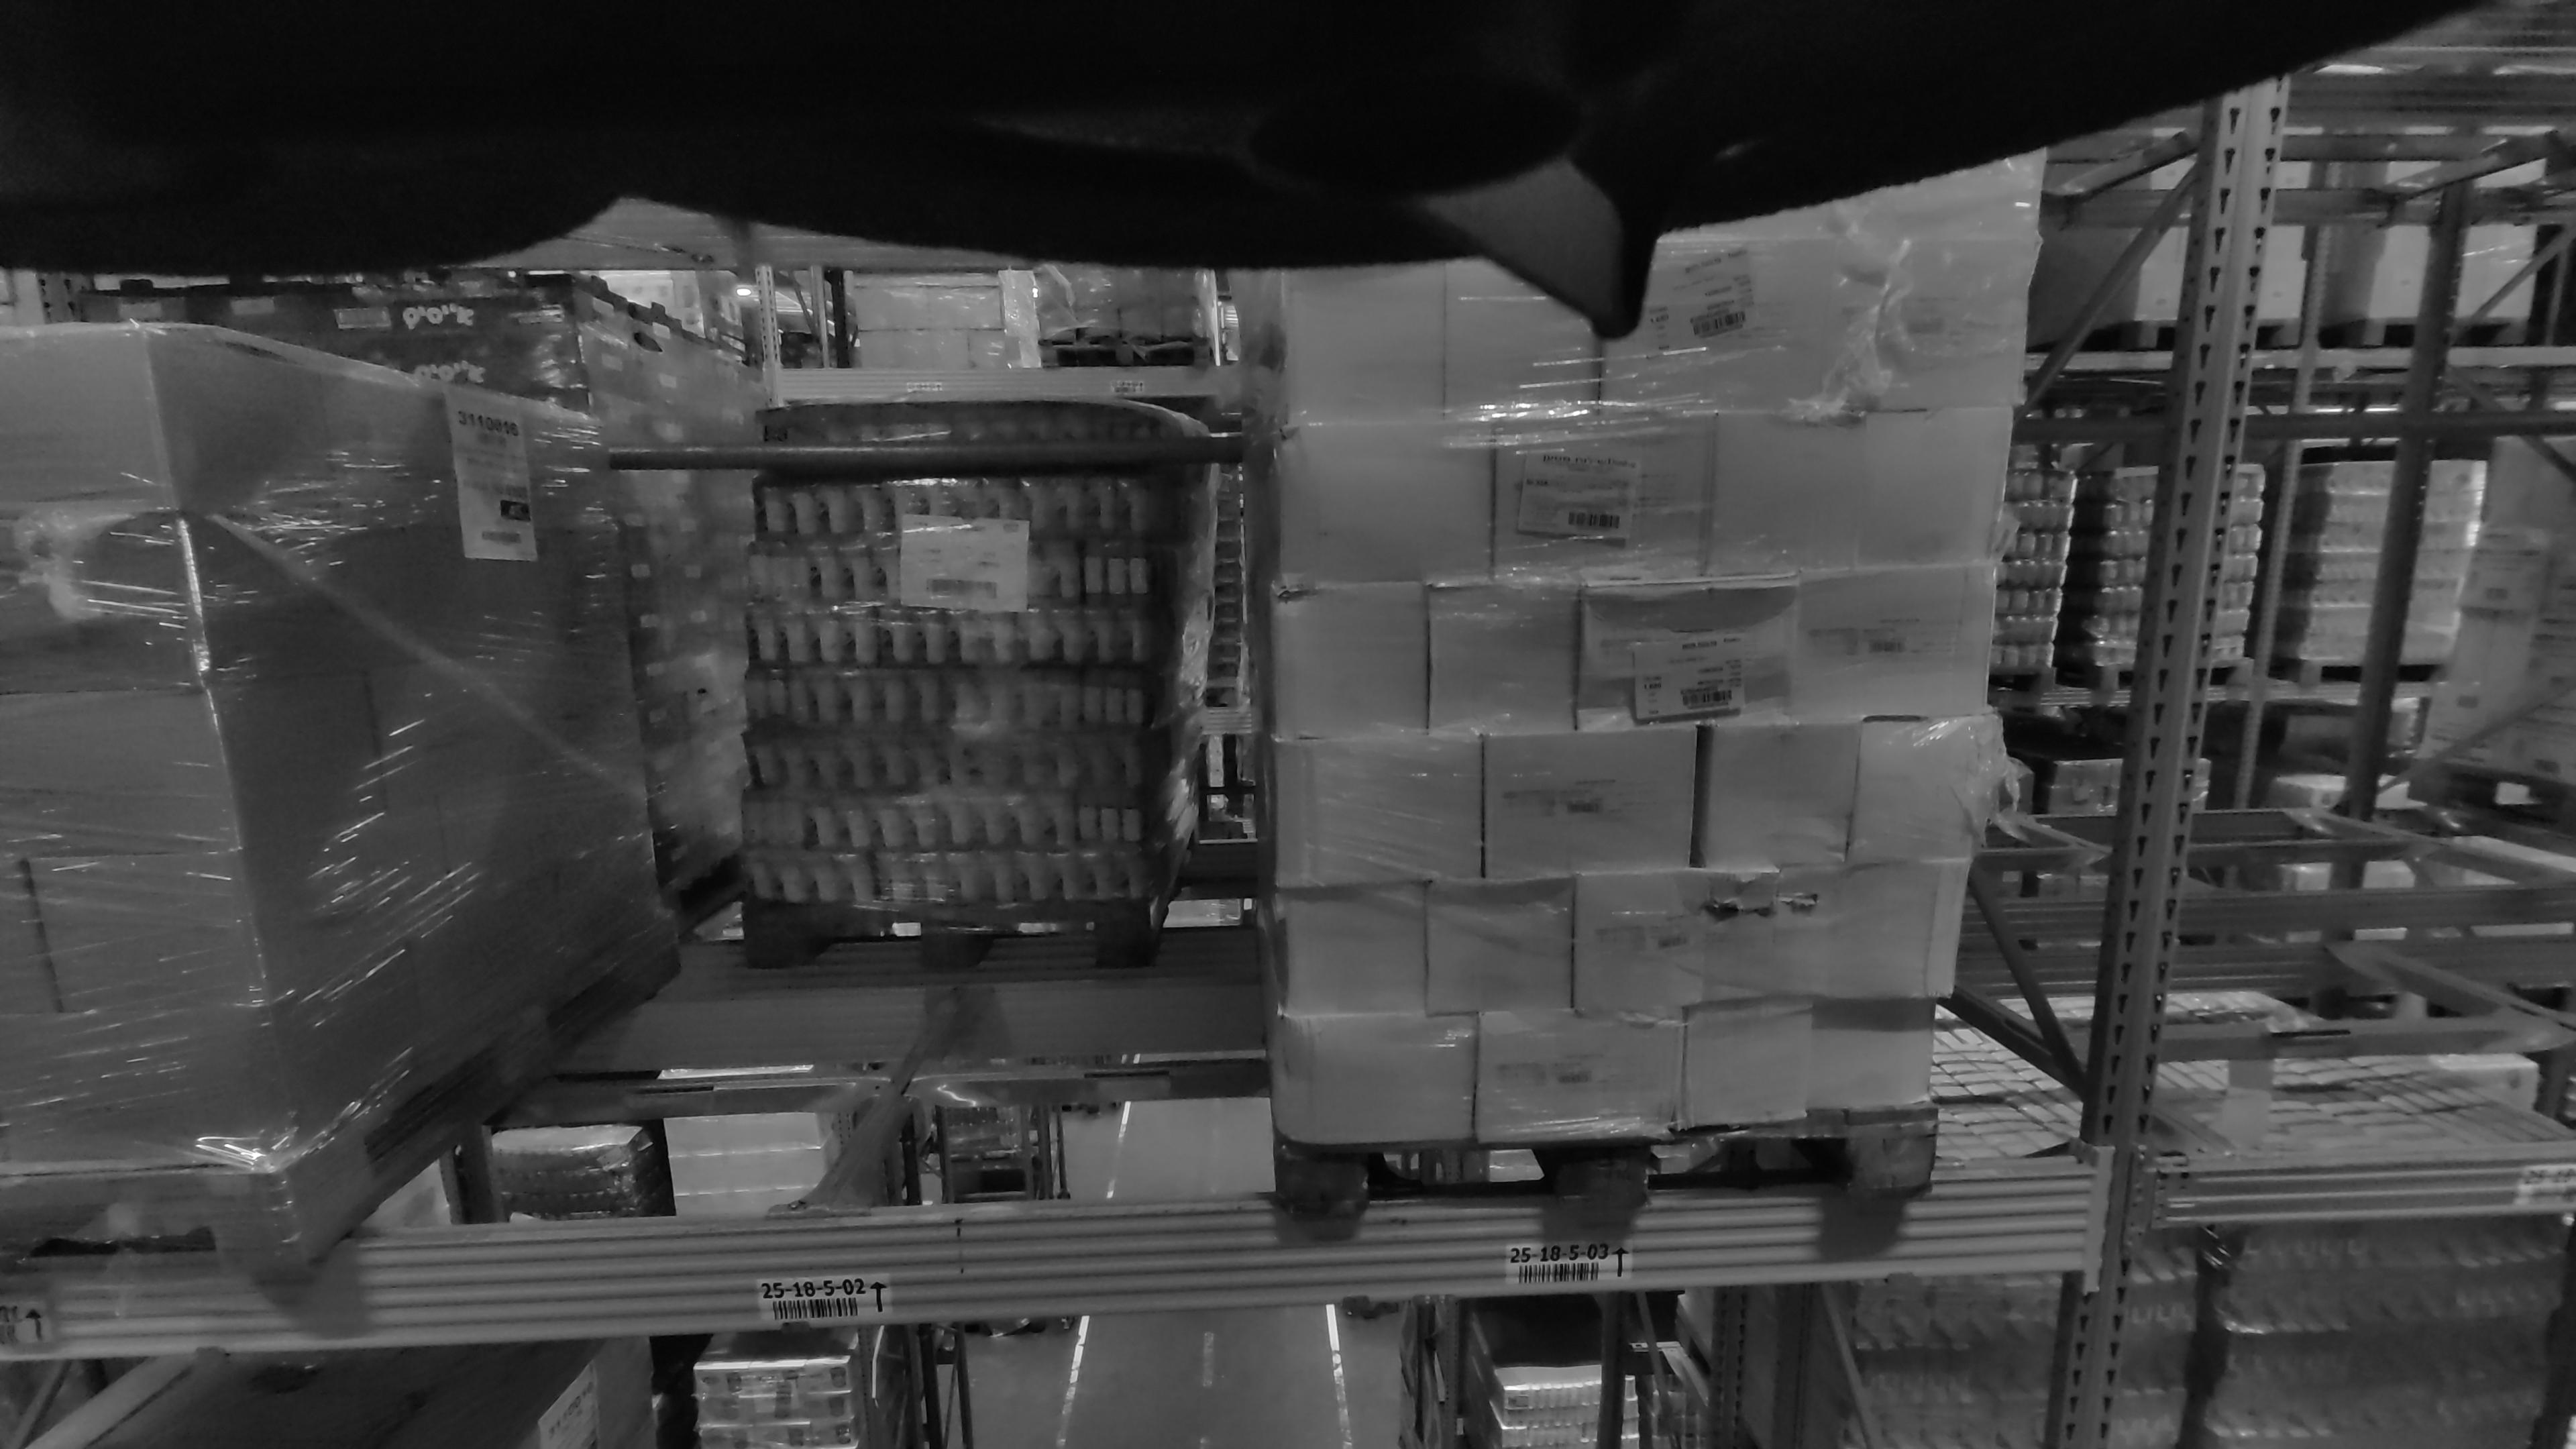empty-shelf: (494, 242, 1221, 1196), (2240, 69, 2571, 1184), (2217, 425, 2541, 886)
